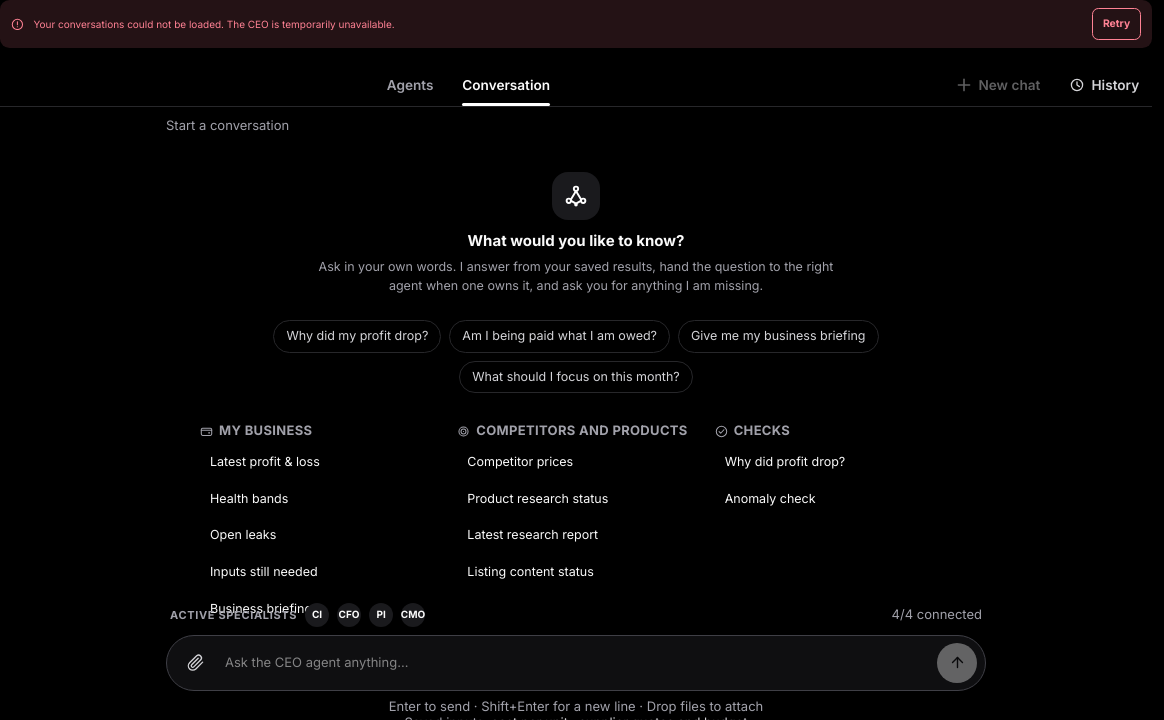
Test: CEO Hub: the backend is unavailable › says so once, in an alert with a retry, instead of looking like a normal empty start
This screenshot has width=1164, height=720.
Expected: the element with test id "hub-unavailable" shows "Your conversations could not be loaded.", [34,18,395,30]
Expected: the message is shown, [0,0,1152,48]
What coordinates should you click on to do the following:
click the button "Retry"
I would click on:
 (1117, 24)
Its box is [1092,8,1141,40].
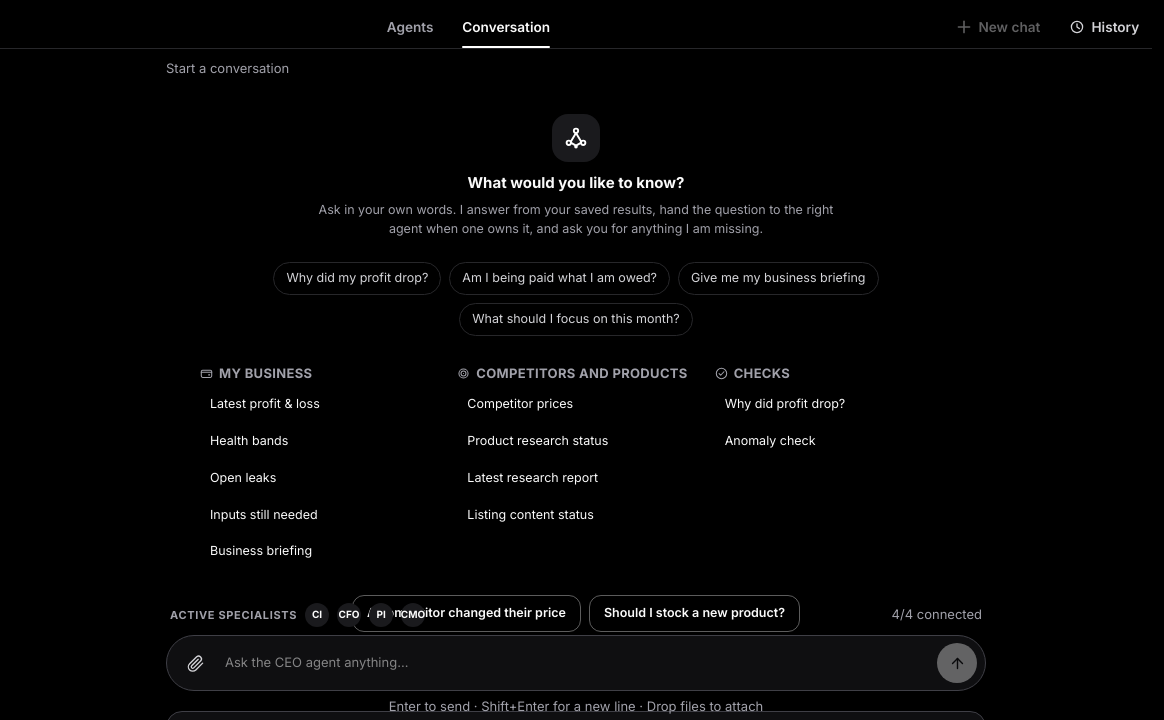
Expected: the element with test id "hub-unavailable" is gone
